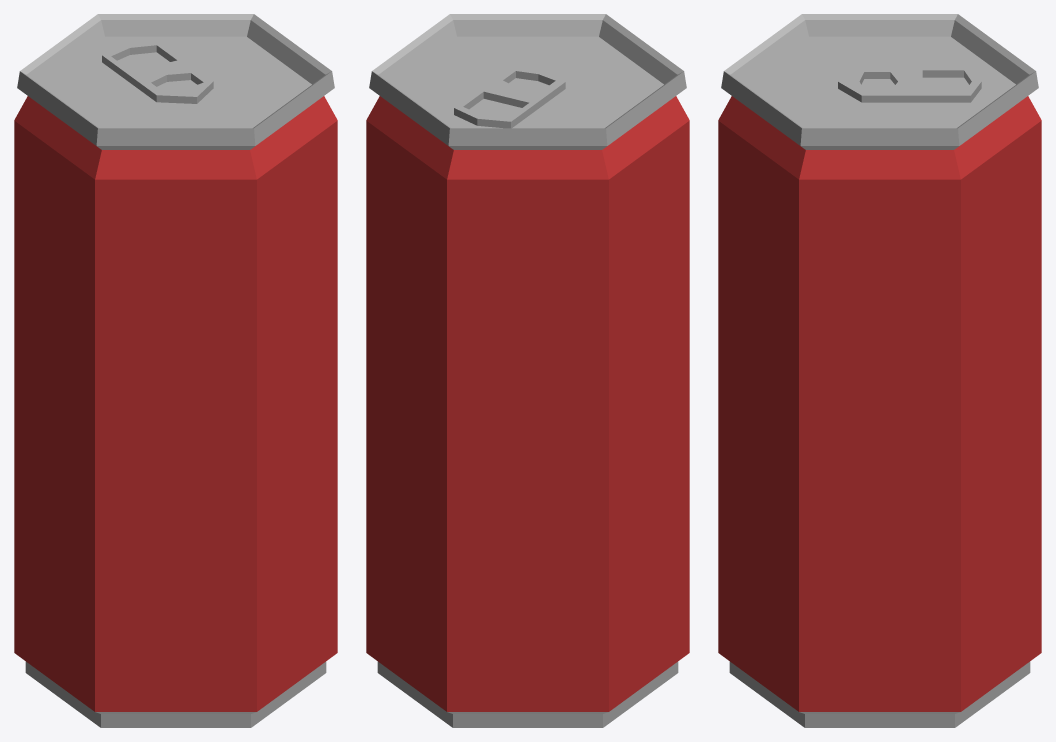
The model's file is BeverageCan2Red.fbx.
3 views of the same model, side by side, from view 1: azimuth 30°, elevation 25°; view 2: azimuth 150°, elevation 25°; view 3: azimuth 270°, elevation 25° (orthographic).
Parts seen in each view (by area): view 1: Cylinder; view 2: Cylinder; view 3: Cylinder.
Part boxes in pixels (x1,y1,x2,y2): Cylinder: (14,14,337,727); Cylinder: (366,14,689,727); Cylinder: (718,14,1041,727).
Size of the model in its own units: 0.1183 by 0.2802 by 0.1366.
